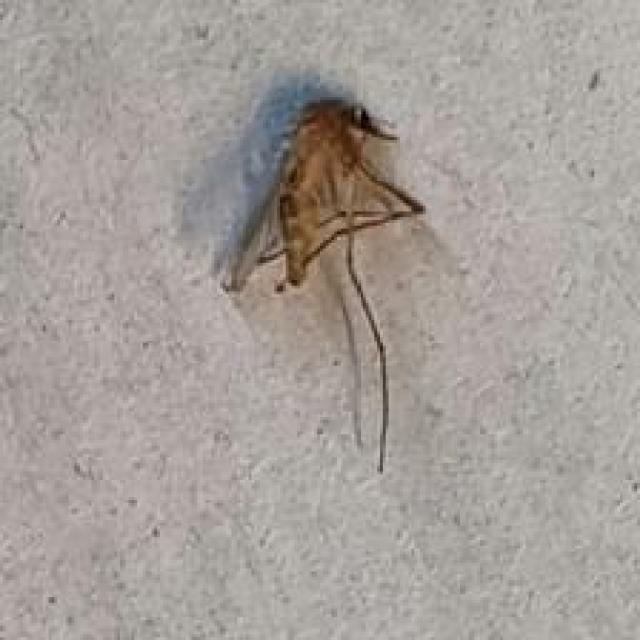Culex: (219, 96, 427, 473)
